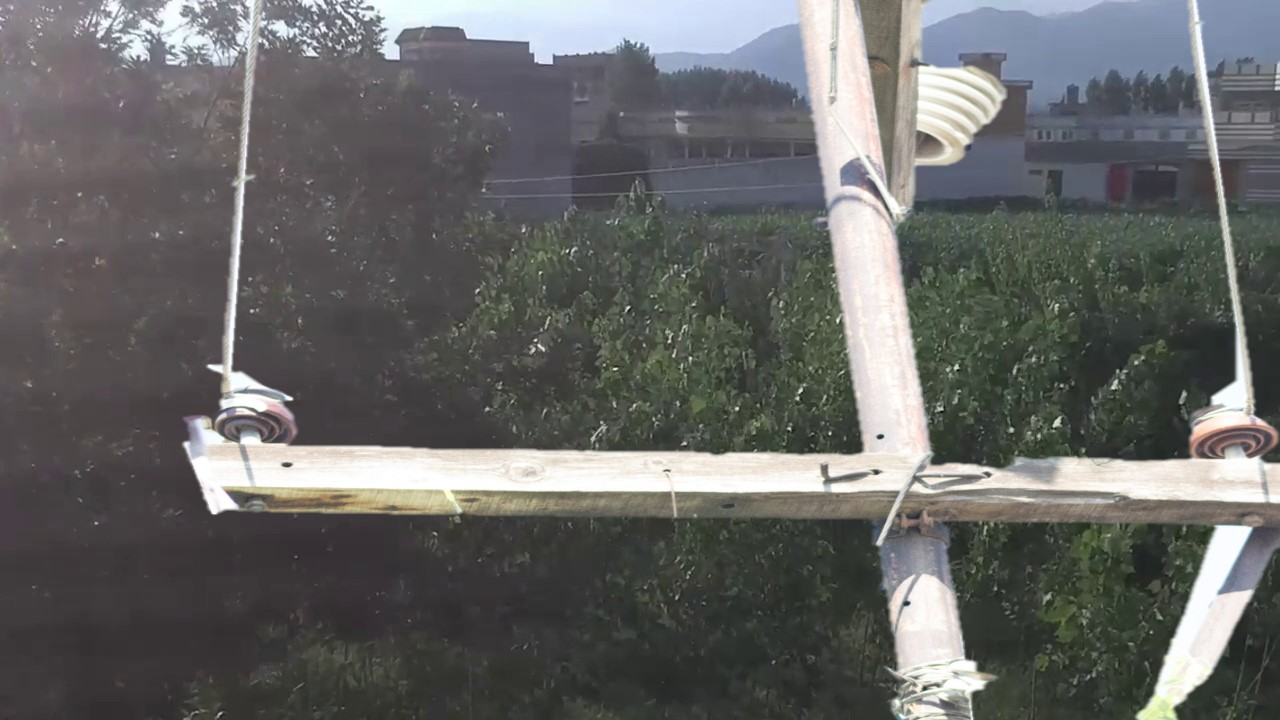defect_pin: (204, 370, 290, 461)
insulator_pin: (1184, 397, 1267, 462)
